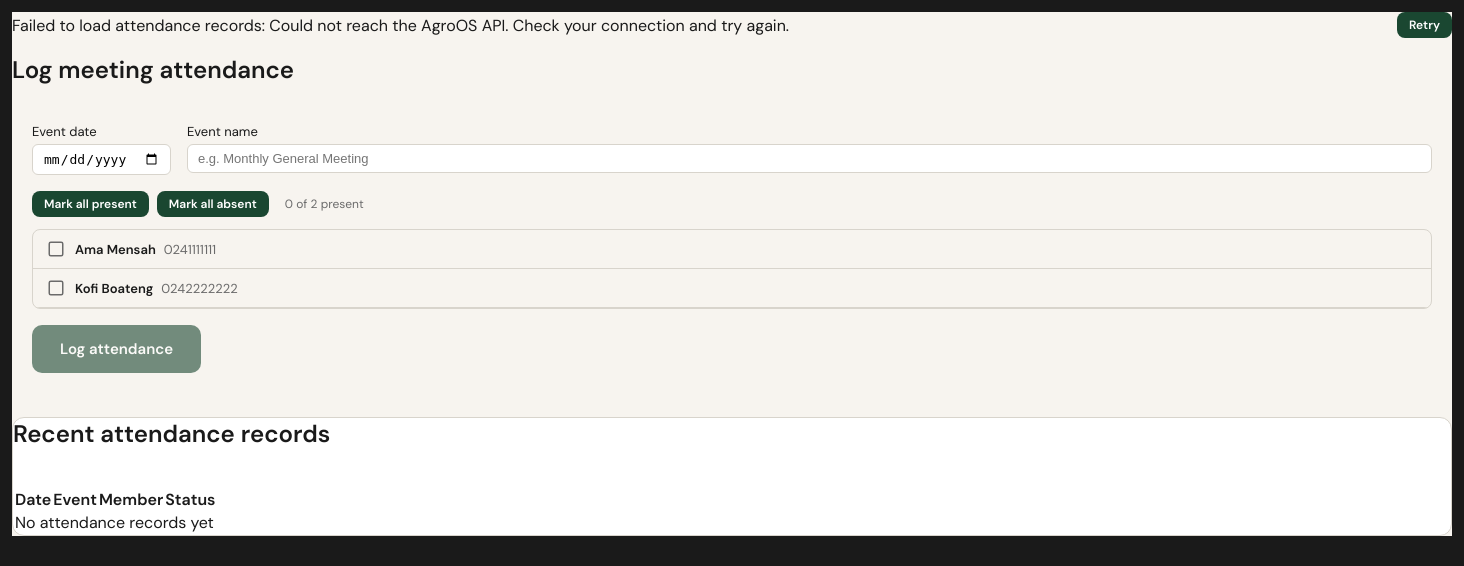
Test: CooperativeAttendance › offers a retry when loading records fails
The image size is (1464, 566).
Expected: the message shows "Failed to load attendance records", [12,14,269,36]
Click the button "Retry": [1424, 25] box [1397,12,1452,38]
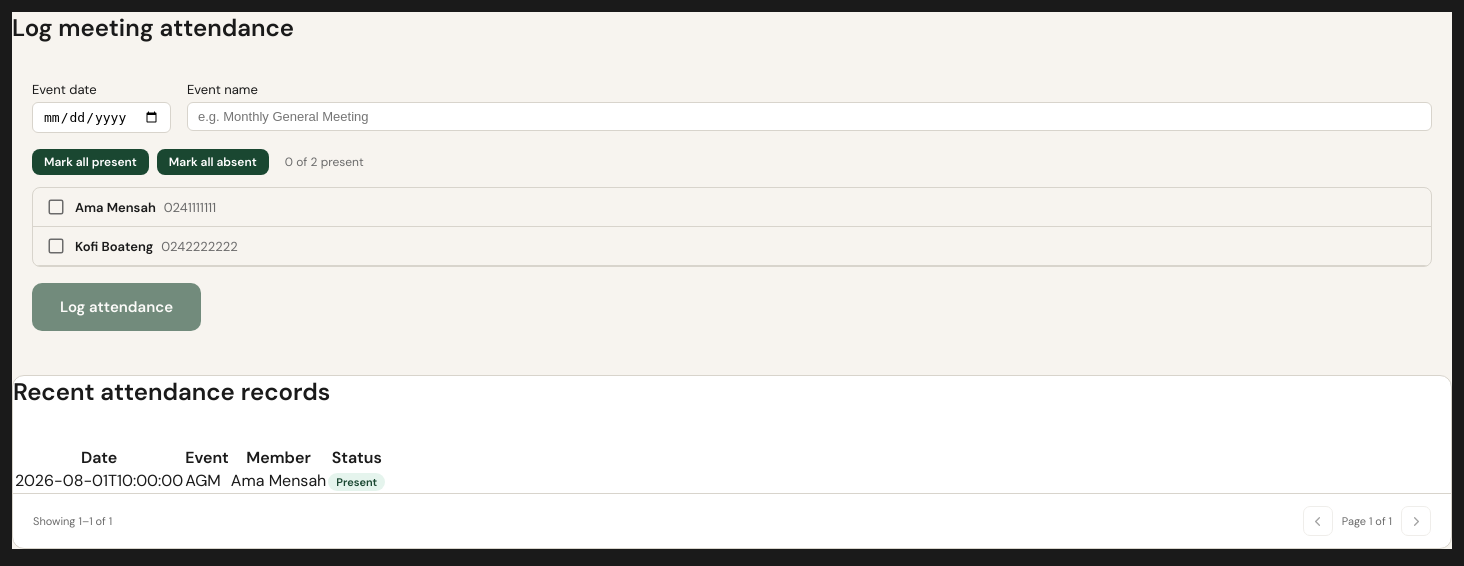
Expected: the text "AGM" is shown, [185,470,229,491]
